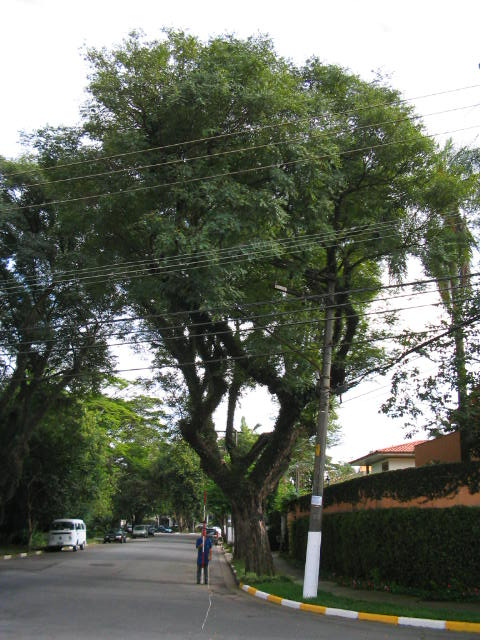crown: (4, 25, 471, 414)
stem: (220, 497, 283, 578)
stick: (195, 489, 209, 584)
tree: (1, 22, 474, 580)
